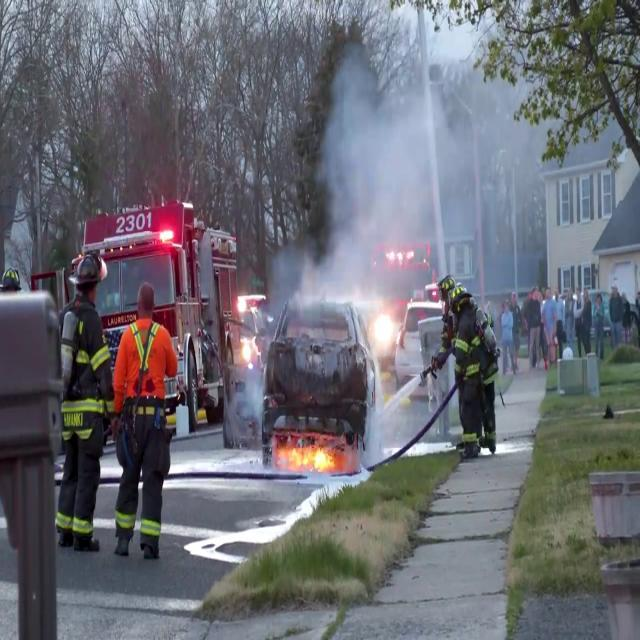Fire: (280, 432, 336, 472)
Smoke: (286, 20, 570, 328)
